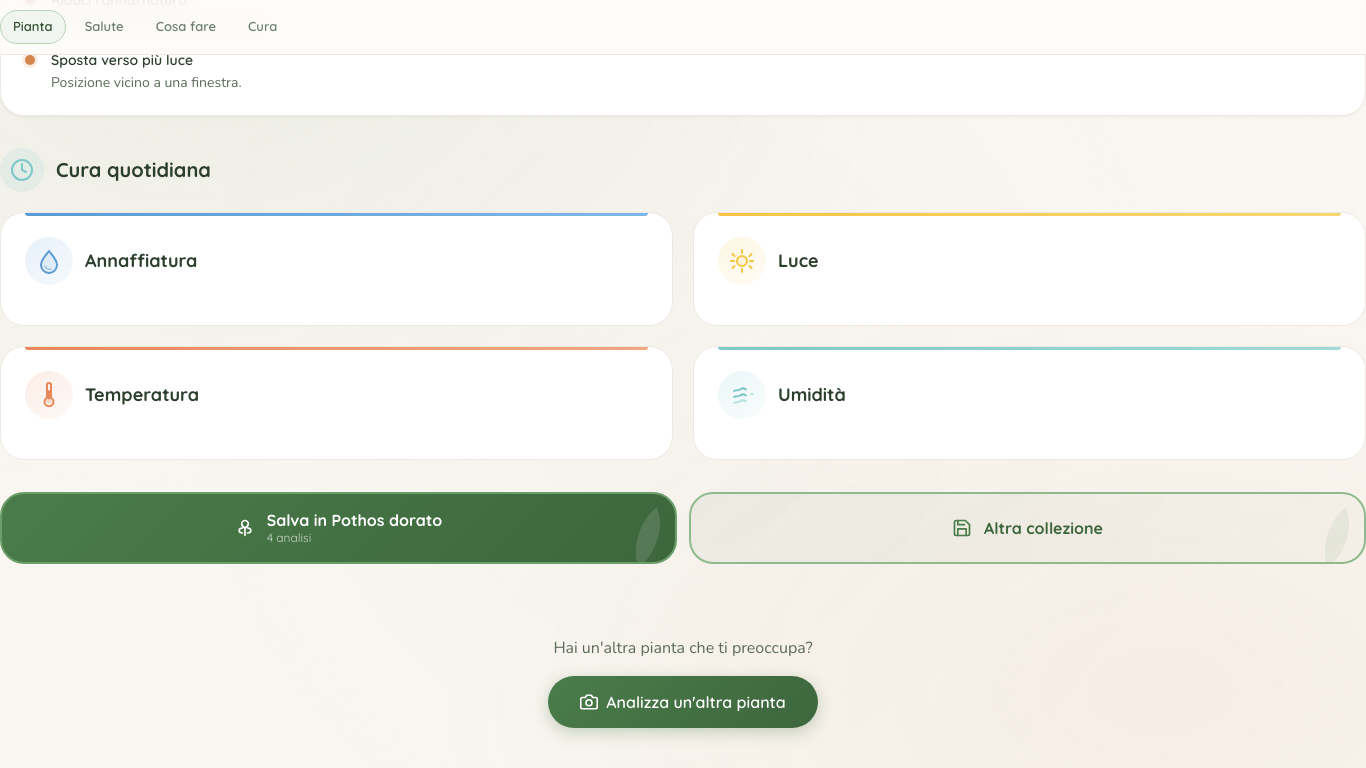
Test: Flusso completo: selettore collezione con ricerca e salvataggio › filtra la lista digitando parte del nome della collezione
(page scrolled)
Click the button "Altra collezione". click: (1028, 528)
box: [689,492,1365,564]
(page scrolled)
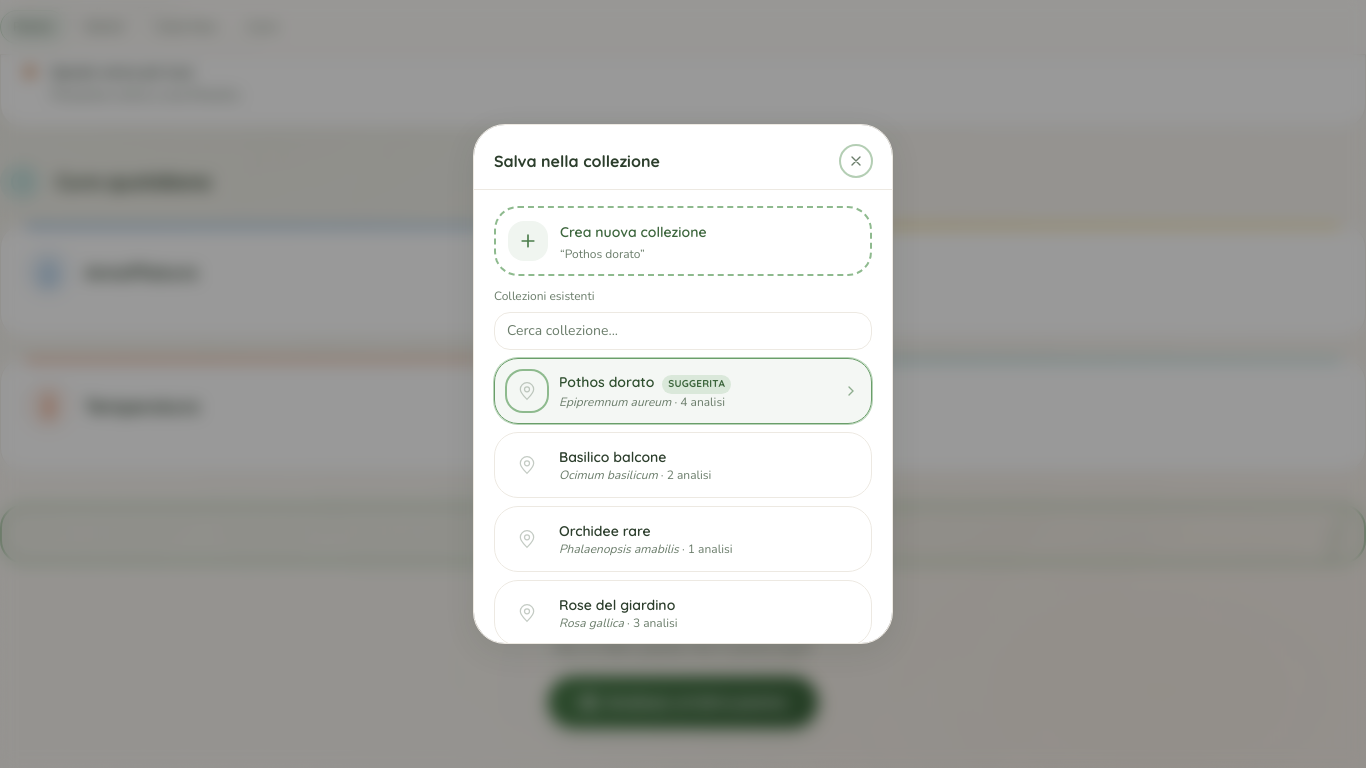
Expected: the text "Collezioni esistenti" is shown, [494,288,594,304]
Type "basil" into the field with placeholder "Cerca collezione...". click: (683, 331)
box: [494,312,872,350]
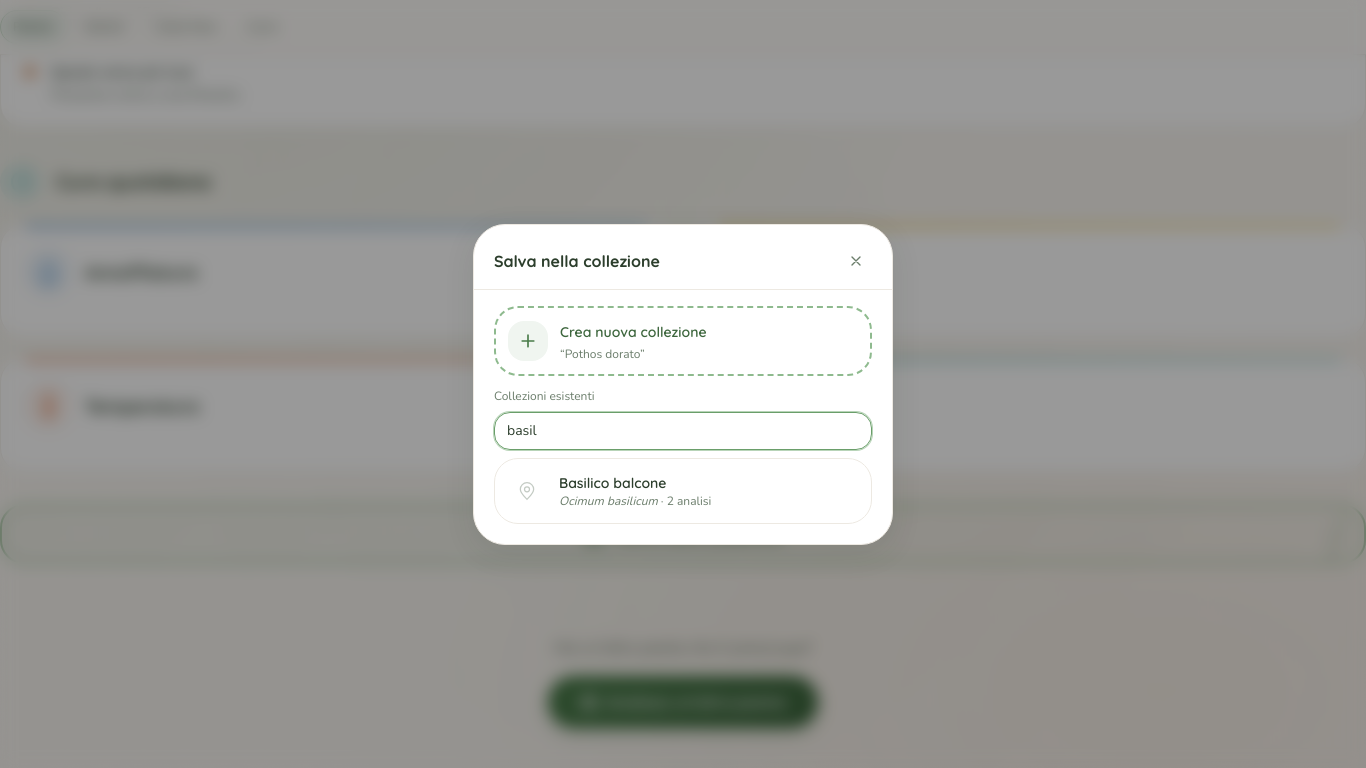
Expected: the text "Basilico balcone" is shown, [559,474,666,492]
Expected: the button "Orchidee rare" is gone
Expected: the button "Rose del giardino" is gone
